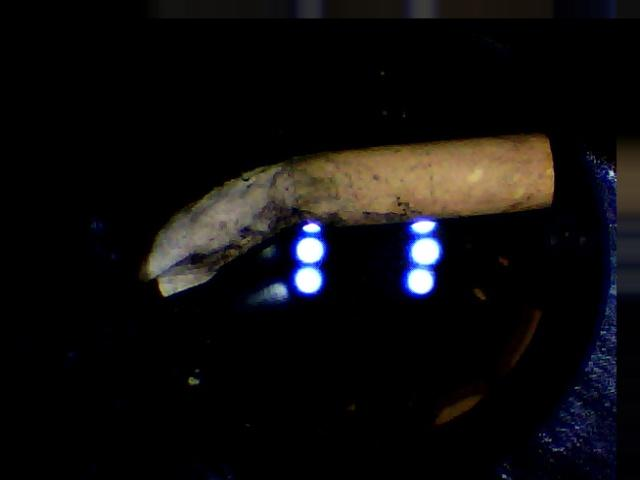megot: (136, 130, 558, 298)
